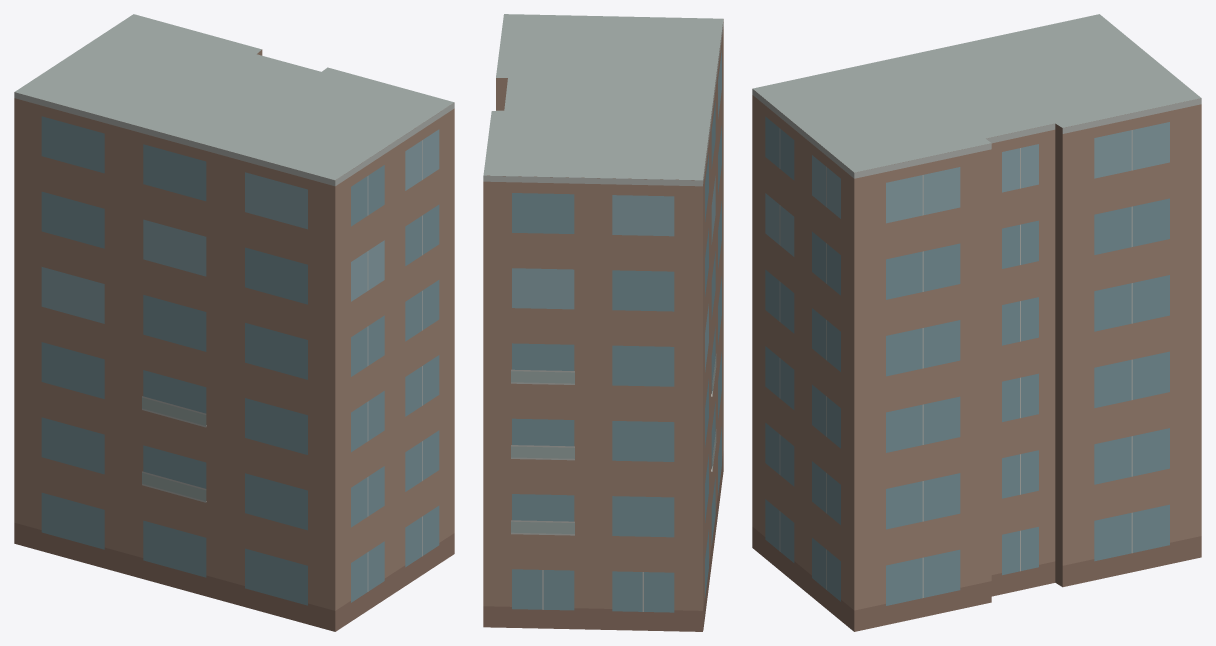
The model's file is survey-upis-32839379.glb.
The picture shows the model from 3 angles, left to right: view 1: azimuth 30°, elevation 25°; view 2: azimuth 150°, elevation 25°; view 3: azimuth 270°, elevation 25°; orthographic projection.
Parts seen in each view (by area): view 1: survey-upis-32839379.tmp; view 2: survey-upis-32839379.tmp; view 3: survey-upis-32839379.tmp.
Boxes of the visible parts, x1,y1,x2,y2 form: survey-upis-32839379.tmp: [14, 14, 454, 631]; survey-upis-32839379.tmp: [483, 14, 723, 631]; survey-upis-32839379.tmp: [752, 14, 1201, 631].
Bounding box in the file's own units: 13.57 × 18.3 × 16.23.
